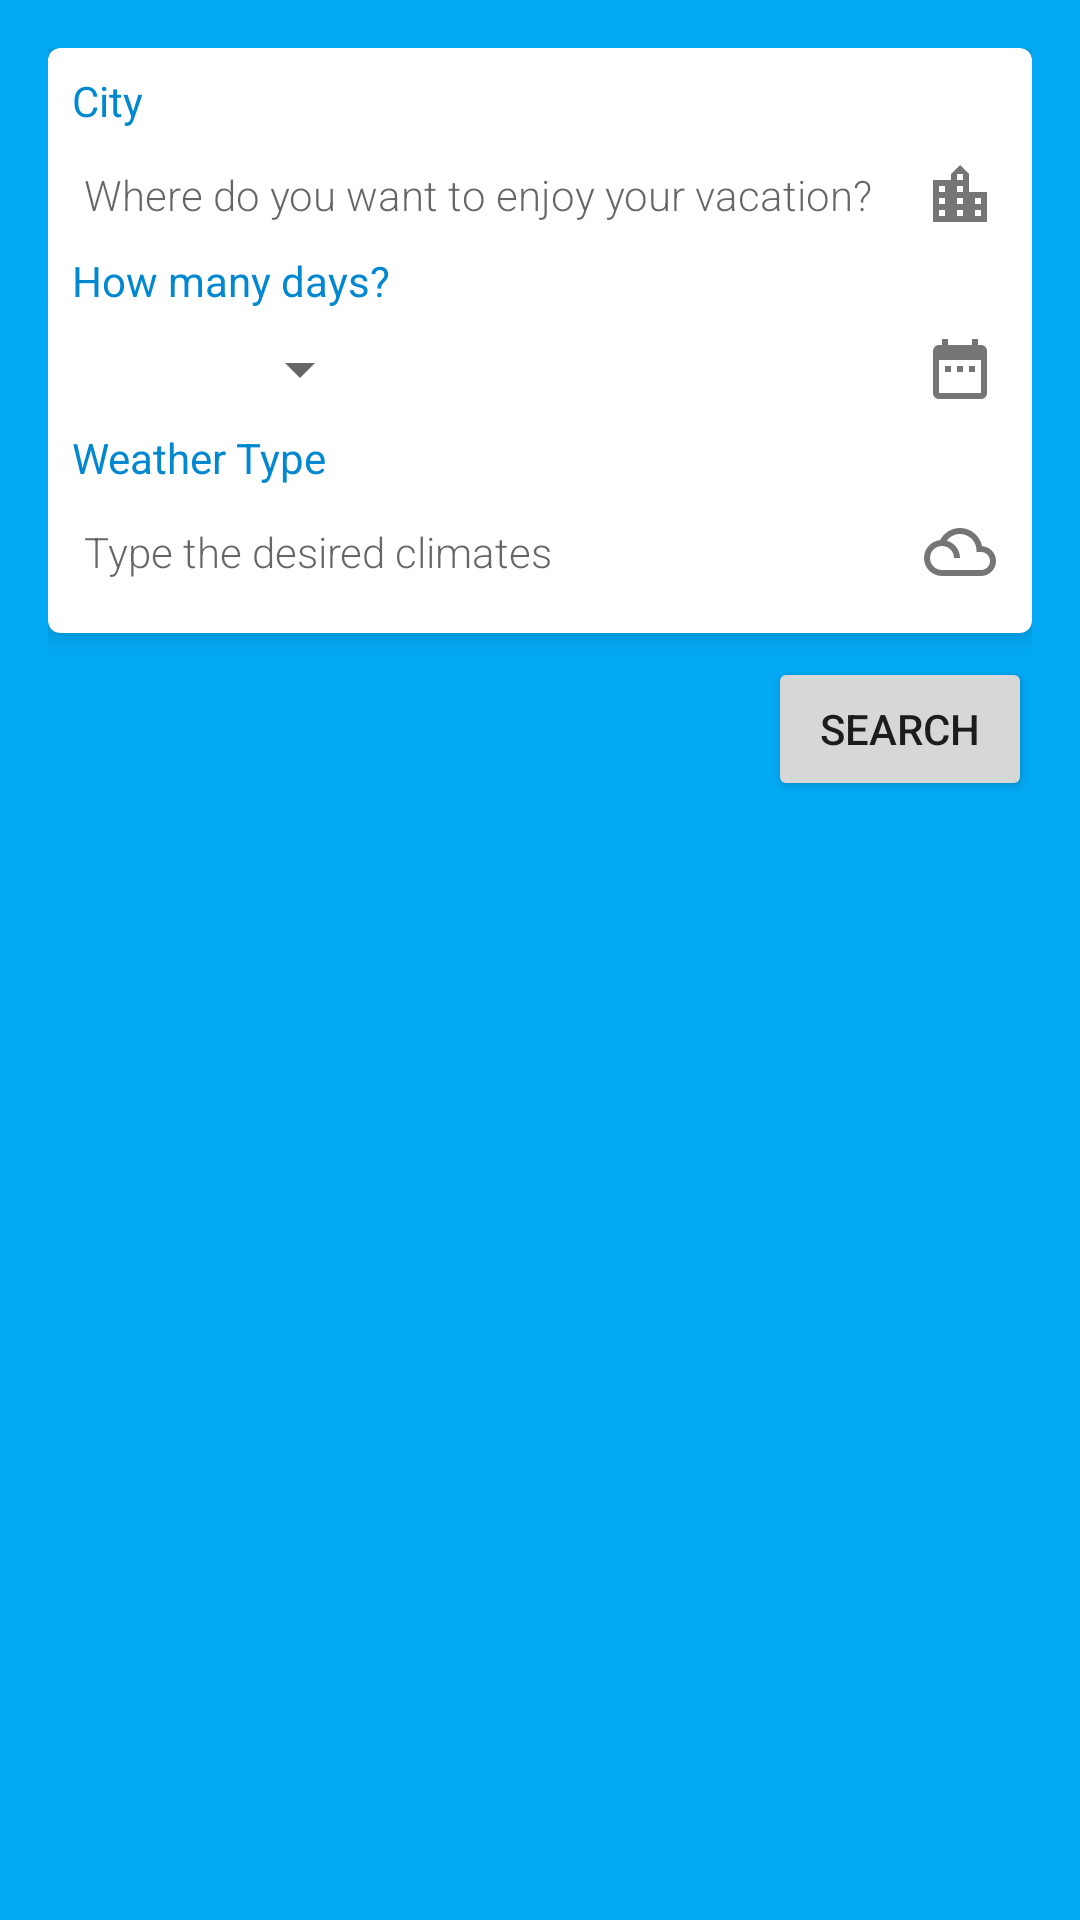

Screen size 1080 x 1920. Icon name, then its box in pixels as (x1, y1, x2, y2):
date range: (933, 339, 987, 399)
